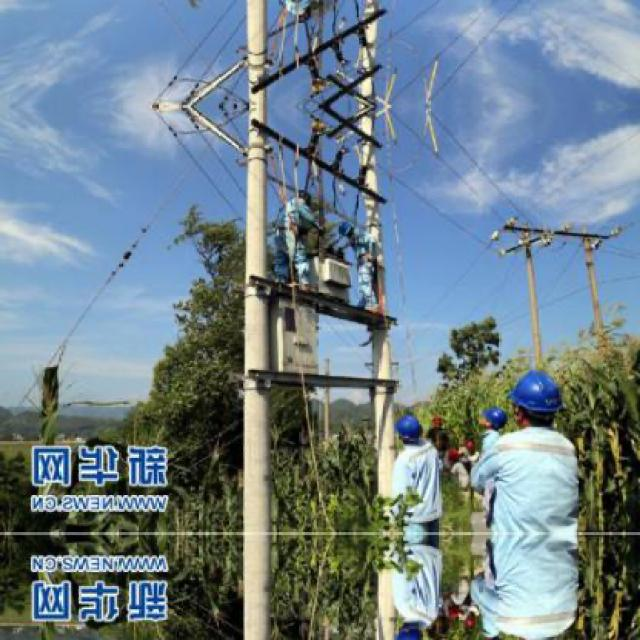helmet: (510, 370, 564, 430), (392, 416, 422, 449), (477, 407, 511, 432), (392, 620, 423, 638), (335, 217, 360, 239)
